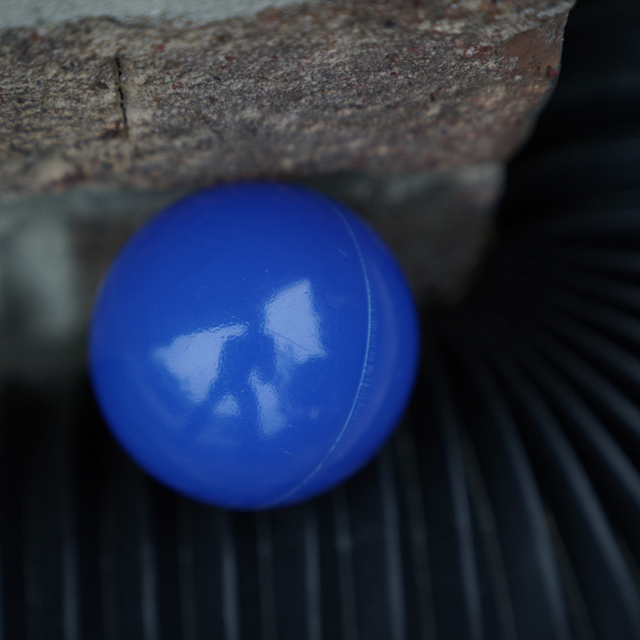Ball: (92, 181, 421, 512)
